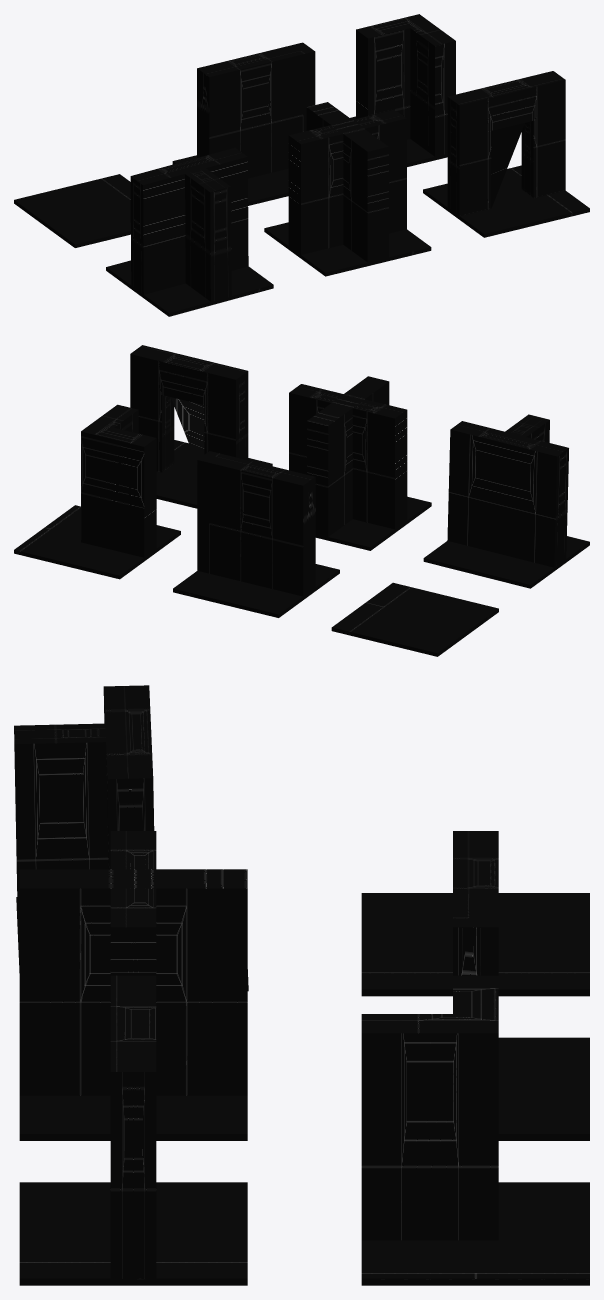
Rendered from Walls.fbx.
3 renders of one model, top to bottom at view 1: azimuth 30°, elevation 25°; view 2: azimuth 150°, elevation 25°; view 3: azimuth 270°, elevation 25°, orthographic. The views are drawn at different scales.
Parts seen in each view (by area): view 1: Four_wall, Middle_wall, Opening, Wall, Corner, Floor; view 2: Middle_wall, Wall, Four_wall, Corner, Opening, Floor; view 3: Four_wall, Corner, Opening, Middle_wall, Floor, Wall.
Part boxes in pixels (bbox=[...]): Four_wall: bbox=[264, 102, 431, 276]; Middle_wall: bbox=[106, 147, 273, 316]; Opening: bbox=[423, 71, 589, 237]; Wall: bbox=[172, 42, 315, 205]; Corner: bbox=[350, 14, 455, 166]; Floor: bbox=[14, 174, 130, 247]; Middle_wall: bbox=[423, 414, 589, 588]; Wall: bbox=[173, 451, 339, 617]; Four_wall: bbox=[289, 376, 431, 550]; Corner: bbox=[14, 404, 180, 579]; Opening: bbox=[130, 345, 272, 508]; Floor: bbox=[331, 582, 498, 656]; Four_wall: bbox=[19, 831, 247, 1140]; Corner: bbox=[361, 975, 589, 1285]; Opening: bbox=[19, 975, 247, 1285]; Middle_wall: bbox=[14, 685, 248, 991]; Floor: bbox=[361, 893, 589, 996]; Wall: bbox=[453, 831, 589, 1140].
Bounding box in the file's own units: 803 × 212 × 505.
